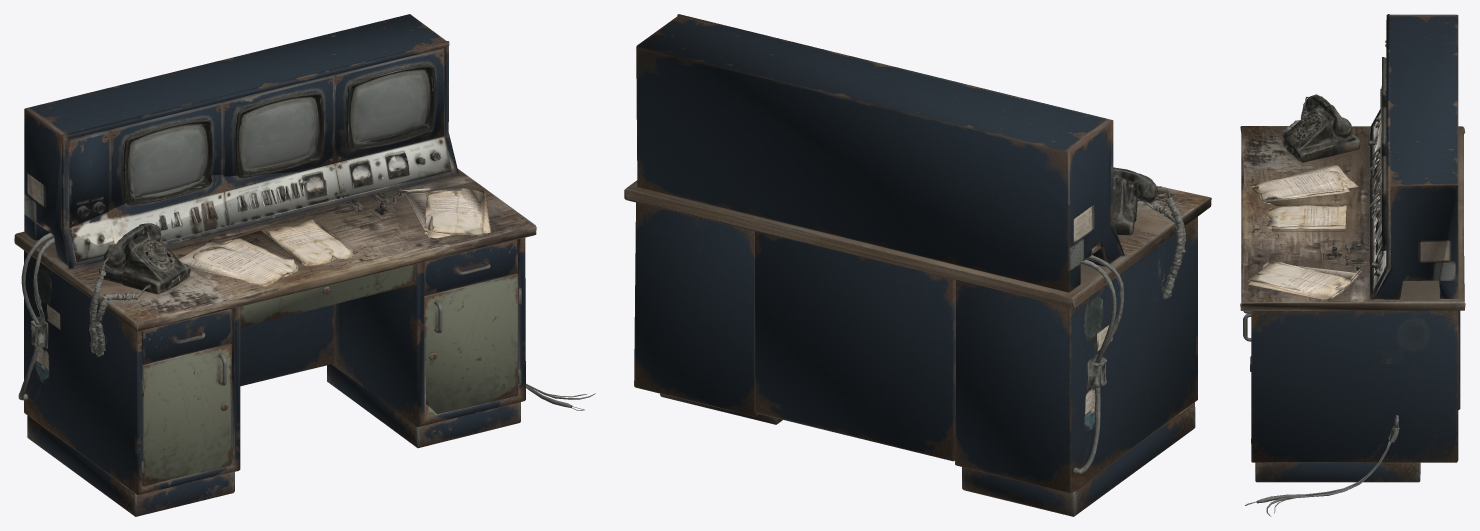
The model's file is silo81_monitors.glb.
3 views of the same model, side by side, from view 1: azimuth 30°, elevation 25°; view 2: azimuth 150°, elevation 25°; view 3: azimuth 270°, elevation 25° (orthographic). The views are drawn at different scales.
Bounding box in the file's own units: 0.9497 × 0.6079 × 0.416.
1 material, 1 textured.
